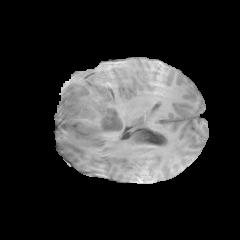glioma: (56, 62, 125, 143)
